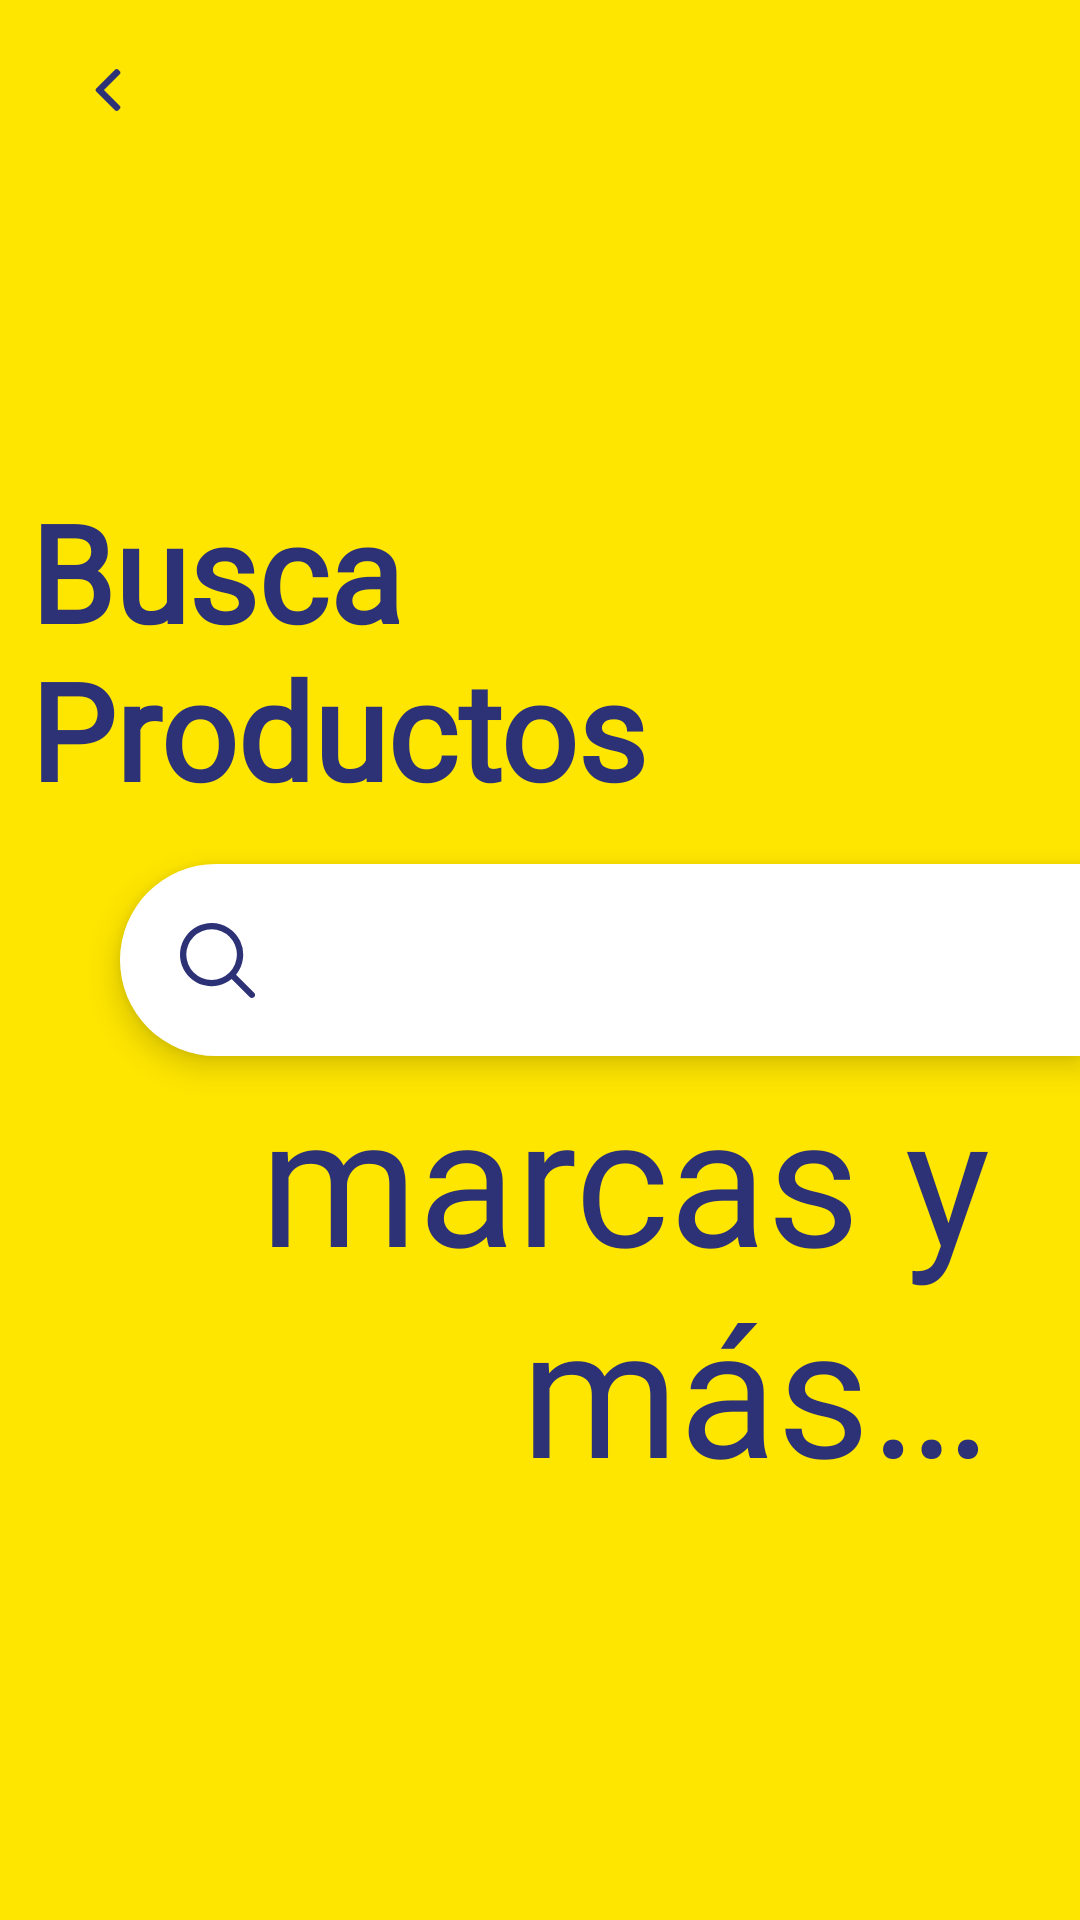

Icons on this 1080w x 1920h Android screen, each with its box as (x1, y1, x2, y2):
back arrow: (95, 69, 121, 111)
